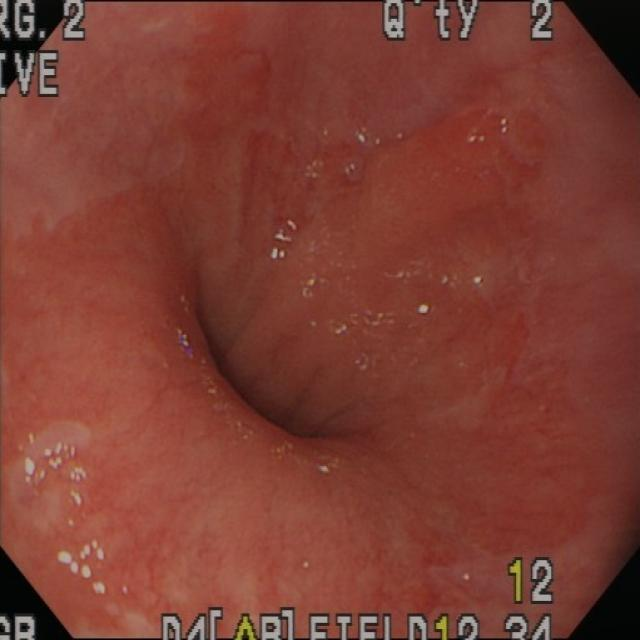E: (174, 234, 390, 497)
I: (502, 188, 616, 543), (63, 87, 257, 226)
S: (160, 608, 483, 640), (383, 3, 558, 45), (3, 3, 83, 45), (3, 50, 63, 101), (507, 558, 556, 608), (506, 614, 556, 640), (2, 614, 39, 640)
T: (269, 438, 299, 463), (304, 272, 329, 298), (346, 156, 366, 181), (355, 353, 373, 372)
U: (17, 433, 85, 530), (204, 373, 254, 444), (56, 538, 110, 599), (270, 219, 302, 263), (384, 258, 428, 281), (359, 126, 407, 147), (175, 327, 198, 360), (363, 308, 397, 330), (304, 156, 328, 181), (318, 456, 342, 480), (467, 125, 488, 147), (468, 272, 488, 291), (442, 270, 462, 289), (328, 321, 350, 338), (417, 302, 433, 319), (501, 119, 510, 136)
